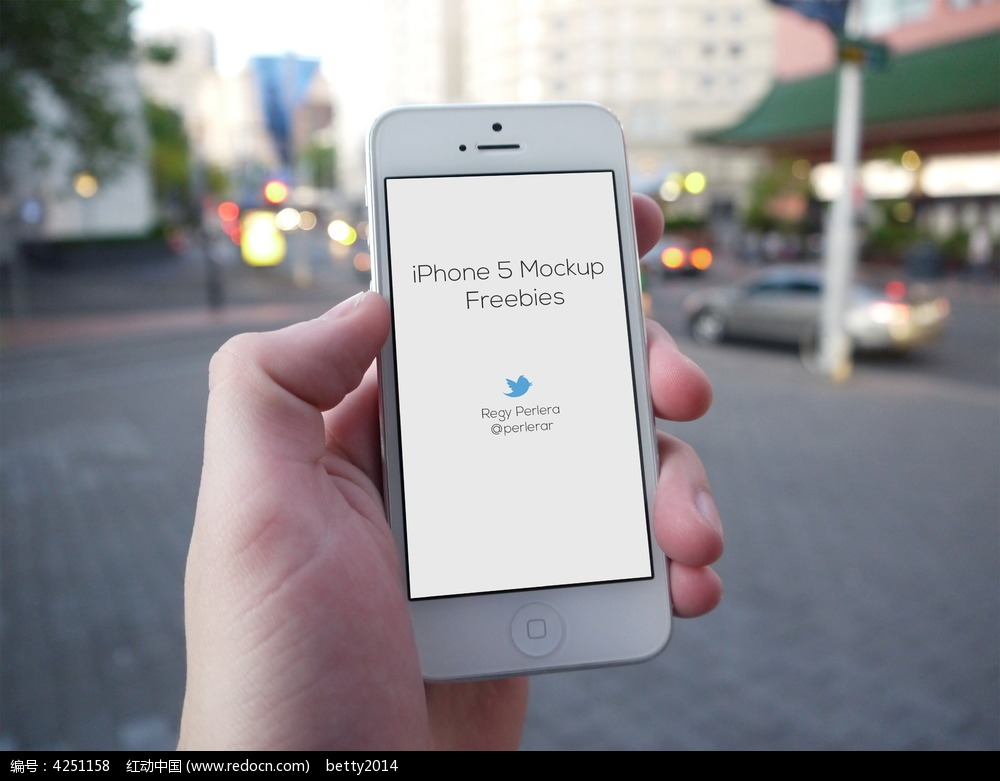phone: (367, 106, 690, 686)
